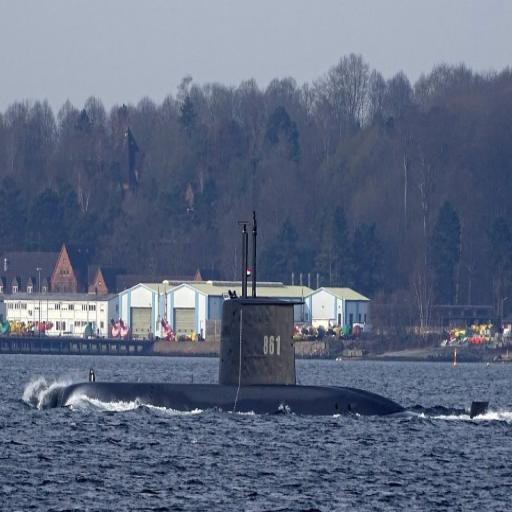submarine: (46, 212, 491, 421)
